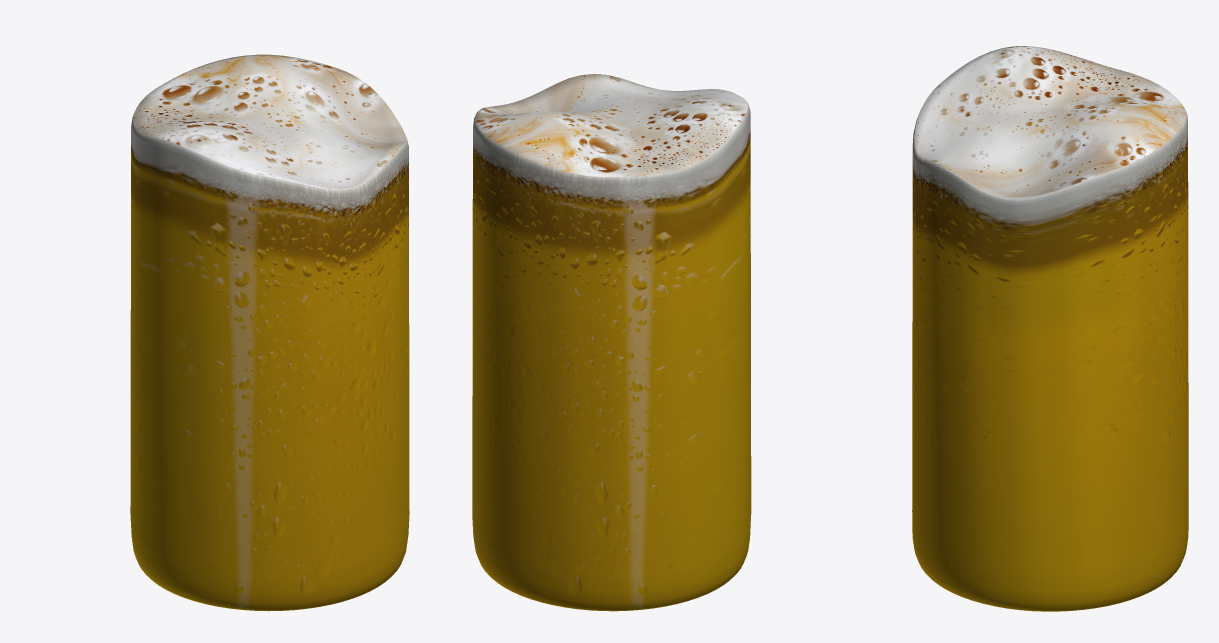
File: BeerMug.fbx
3 views of the same model, side by side, from view 1: azimuth 30°, elevation 25°; view 2: azimuth 150°, elevation 25°; view 3: azimuth 270°, elevation 25° (orthographic).
Visible parts, largest first — view 1: Beer; view 2: Beer; view 3: Beer.
Part boxes in pixels (x1,y1,x2,y2): Beer: (130, 54, 409, 611); Beer: (472, 74, 751, 611); Beer: (912, 46, 1188, 611).
Bounding box in the file's own units: 186 × 227 × 129.
Materials: 3 (3 with a texture image).
